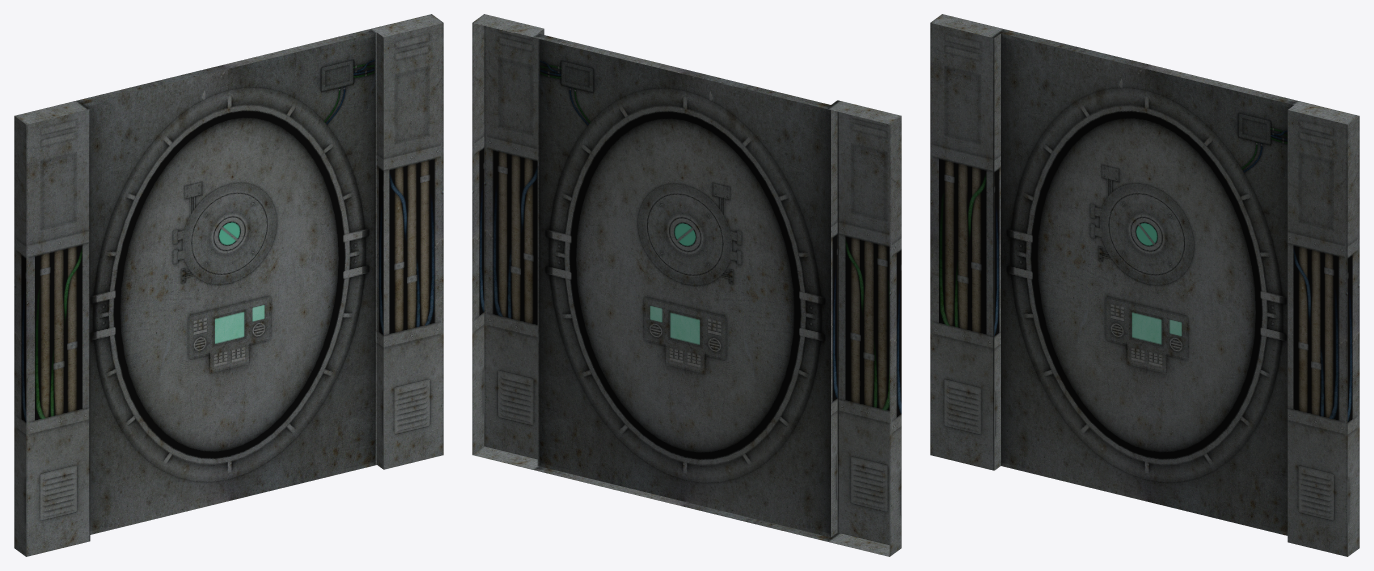
File: door_closed.fbx
3 views of the same model, side by side, from view 1: azimuth 30°, elevation 25°; view 2: azimuth 150°, elevation 25°; view 3: azimuth 330°, elevation 25° (orthographic).
Visible parts, largest first — view 1: Mesh; view 2: Mesh; view 3: Mesh.
Boxes of the visible parts, x1=… form: Mesh: x1=14, y1=14, x2=443, y2=556; Mesh: x1=472, y1=14, x2=901, y2=556; Mesh: x1=930, y1=14, x2=1359, y2=556.
Size of the model in its own units: 202 by 200 by 10.
1 material, 1 textured.
